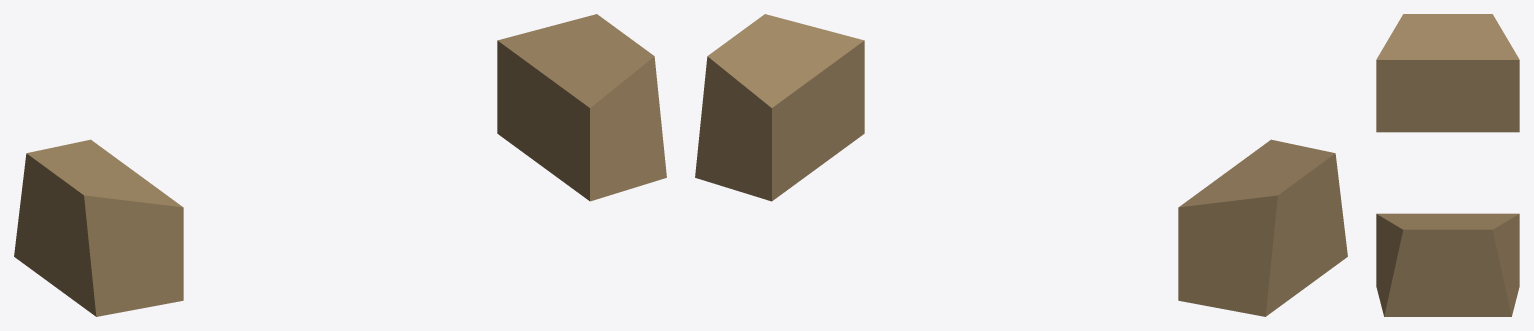
File: yong-apron-LOD2.glb
3 renders of one model, left to right at view 1: azimuth 30°, elevation 25°; view 2: azimuth 150°, elevation 25°; view 3: azimuth 270°, elevation 25°, orthographic. The views are drawn at different scales.
Visible parts, largest first — view 1: retained_adapter_positive, retained_adapter_negative; view 2: retained_adapter_positive, retained_adapter_negative; view 3: retained_adapter_negative, retained_adapter_positive.
Boxes of the visible parts, x1,y1,x2,y2 form: retained_adapter_positive: (497,14,666,201); retained_adapter_negative: (14,139,183,316); retained_adapter_positive: (695,14,864,201); retained_adapter_negative: (1178,139,1347,316); retained_adapter_negative: (1376,14,1519,132); retained_adapter_positive: (1376,213,1519,316).
Size of what is drawn, in the model's own units: 32 by 6.03 by 9.
